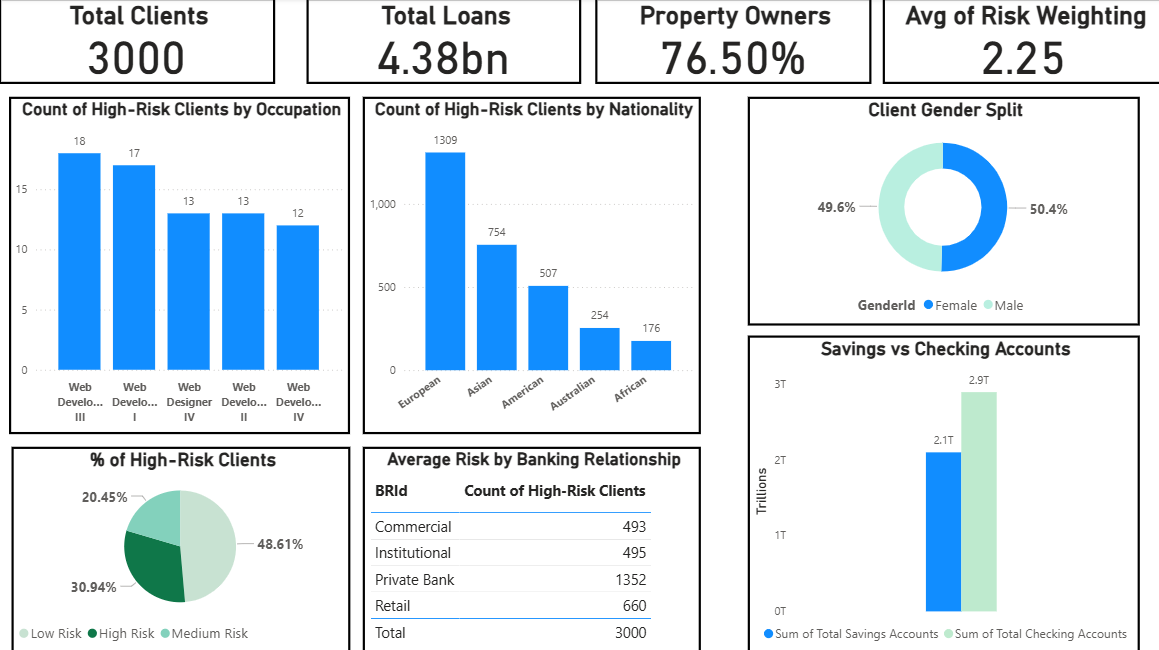

The dashboard page shown, as its layout file describes it:
{"tool":"powerbi","page":{"name":"Summary","canvas":[1280,720],"ordinal":3},"visuals":[{"type":"card","title":"Total Clients","fields":{"Values":["CountNonNull(banking_case customer.Name)"]},"box":[0,0,302.9,94.3],"z":0},{"type":"pieChart","title":"% of High-Risk Clients","fields":{"Category":["banking_case customer.High-Risk Clients"],"Y":["Sum(banking_case customer.Risk Weighting)"]},"box":[13.7,492.6,371.9,227.8],"z":1000},{"type":"columnChart","fields":{"Category":["banking_case customer.Occupation"],"Y":["CountNonNull(banking_case customer.High-Risk Clients)"]},"box":[11,108.4,374.6,370.5],"z":2000},{"type":"columnChart","fields":{"Y":["CountNonNull(banking_case customer.High-Risk Clients)"],"Category":["banking_case customer.Nationality"]},"box":[400,108.6,371.4,370],"z":3000},{"type":"card","title":"Total Loans","fields":{"Values":["banking_case customer.Total Loan"]},"box":[337.6,0,301.9,94.7],"z":4000},{"type":"card","title":"Avg of Risk Weighting","fields":{"Values":["Avg(banking_case customer.Risk Weighting)"]},"box":[970,0,310,94.3],"z":5000},{"type":"tableEx","title":"Average Risk by Banking Relationship","fields":{"Values":["banking_case customer.BRId","banking_case customer.High-Risk Clients"]},"box":[400,492.9,371.4,227.1],"z":6000},{"type":"donutChart","title":"Client Gender Split","fields":{"Category":["banking_case customer.GenderId"],"Y":["CountNonNull(banking_case customer.ï»¿Client ID)"]},"box":[821.4,108.6,430,251.4],"z":7000},{"type":"clusteredColumnChart","title":"Savings vs Checking Accounts","fields":{"Y":["Sum(banking_case customer.Total Savings Accounts)","Sum(banking_case customer.Total Checking Accounts)"]},"box":[821.4,370,430,350],"z":8000},{"type":"card","title":"Property Owners","fields":{"Values":["Min(banking_case customer.Clients Owning Properties (%))"]},"box":[654.3,0,302.9,94.3],"z":9000}]}

Visuals, with their boxes in screenshot pixels (x1, y1, x2, y2), scaled from the page's 1280x720 canvas onto the 1159x650 screenshot:
"Total Clients" card: select_region(0, 0, 274, 85)
"% of High-Risk Clients" pieChart: select_region(12, 445, 349, 649)
columnChart - banking_case customer.Occupation x CountNonNull(banking_case customer.High-Risk Clients): select_region(10, 98, 349, 432)
columnChart - CountNonNull(banking_case customer.High-Risk Clients) x banking_case customer.Nationality: select_region(362, 98, 698, 432)
"Total Loans" card: select_region(306, 0, 579, 85)
"Avg of Risk Weighting" card: select_region(878, 0, 1158, 85)
"Average Risk by Banking Relationship" tableEx: select_region(362, 445, 698, 649)
"Client Gender Split" donutChart: select_region(744, 98, 1133, 325)
"Savings vs Checking Accounts" clusteredColumnChart: select_region(744, 334, 1133, 649)
"Property Owners" card: select_region(592, 0, 867, 85)
